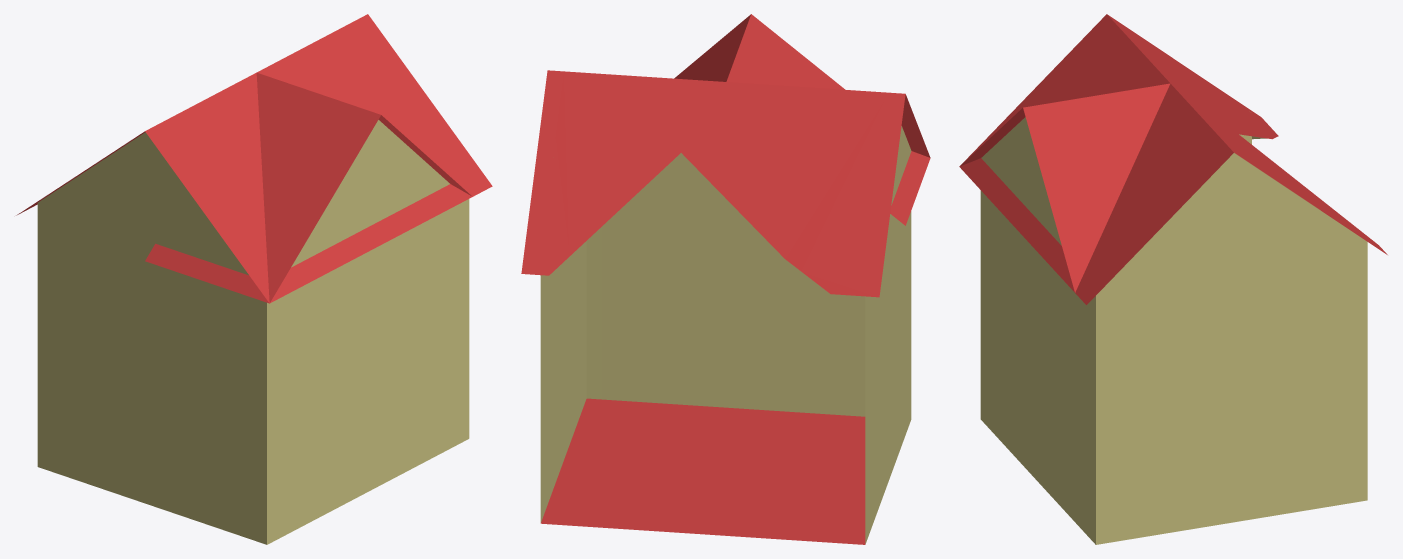
The picture shows the model from 3 angles, left to right: view 1: azimuth 30°, elevation 25°; view 2: azimuth 150°, elevation 25°; view 3: azimuth 270°, elevation 25°; orthographic projection. The views are drawn at different scales.
Size of the model in its own units: 13.55 by 13.06 by 12.65.
